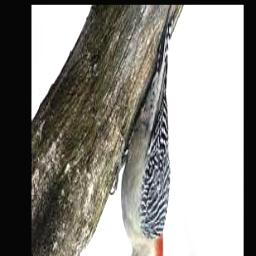Woodpecker: (112, 6, 181, 256)
